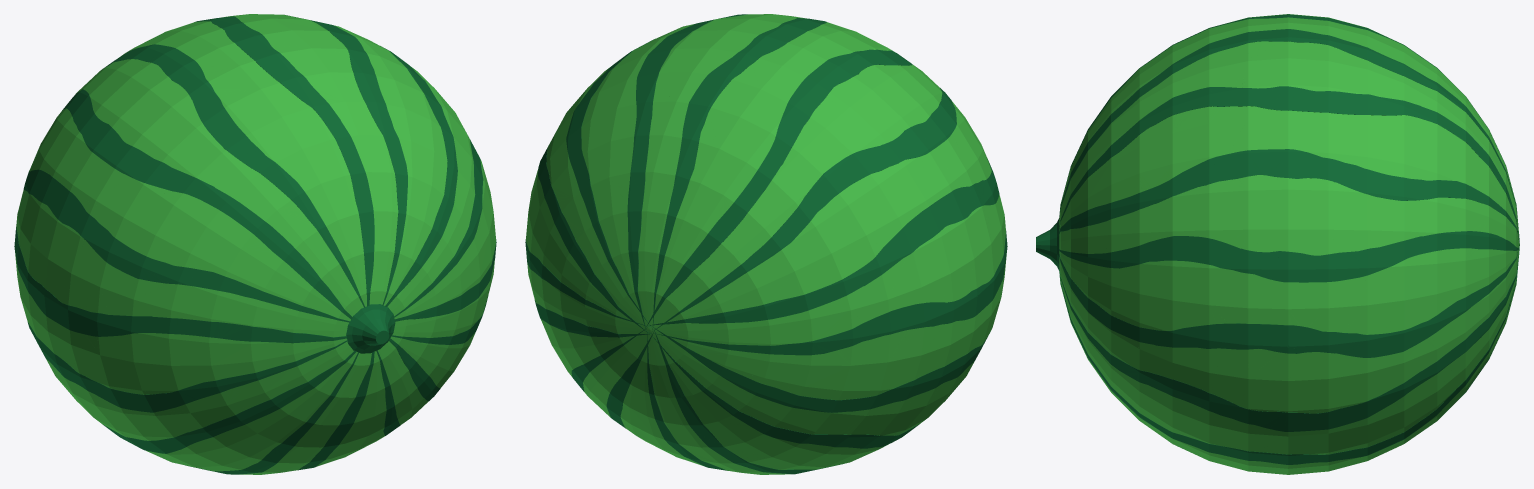
File: tinker.obj
3 renders of one model, left to right at view 1: azimuth 30°, elevation 25°; view 2: azimuth 150°, elevation 25°; view 3: azimuth 270°, elevation 25°, orthographic.
Visible parts, largest first — view 1: group_0_4634441, group_0_1206582; view 2: group_0_4634441, group_0_1206582; view 3: group_0_4634441, group_0_1206582.
Boxes of the visible parts, x1,y1,x2,y2 form: group_0_4634441: (15,14,496,474); group_0_1206582: (14,14,496,474); group_0_4634441: (526,14,1006,474); group_0_1206582: (525,14,1007,474); group_0_4634441: (1059,14,1519,474); group_0_1206582: (1036,14,1519,464).
Bounding box in the file's own units: 18 × 17 × 18.
